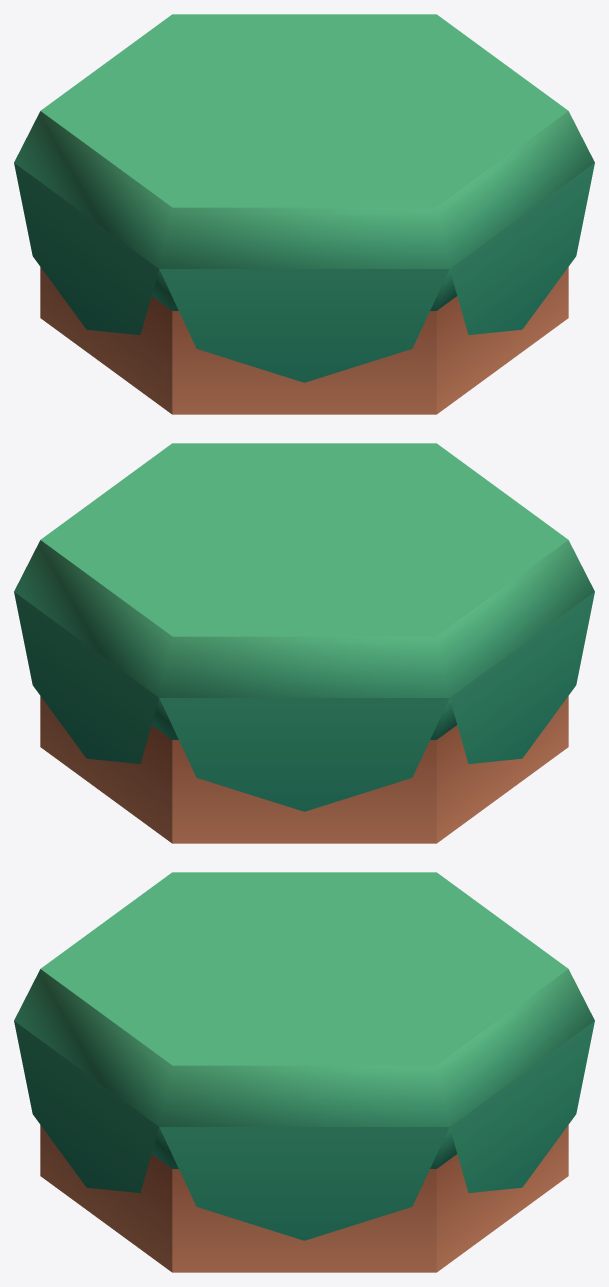
The model's file is block-grass-overhang-low-hexagon.glb.
The picture shows the model from 3 angles, top to bottom: view 1: azimuth 30°, elevation 25°; view 2: azimuth 150°, elevation 25°; view 3: azimuth 270°, elevation 25°; orthographic projection.
Visible parts, largest first — view 1: block-grass-overhang-low-hexagon; view 2: block-grass-overhang-low-hexagon; view 3: block-grass-overhang-low-hexagon.
Boxes of the visible parts, left/top/right/bottom form: block-grass-overhang-low-hexagon: left=14, top=14, right=594, bottom=414; block-grass-overhang-low-hexagon: left=14, top=443, right=594, bottom=843; block-grass-overhang-low-hexagon: left=14, top=872, right=594, bottom=1272.
Size of the model in its own units: 1.1 by 0.5 by 1.27.
Materials: 1 (1 with a texture image).
